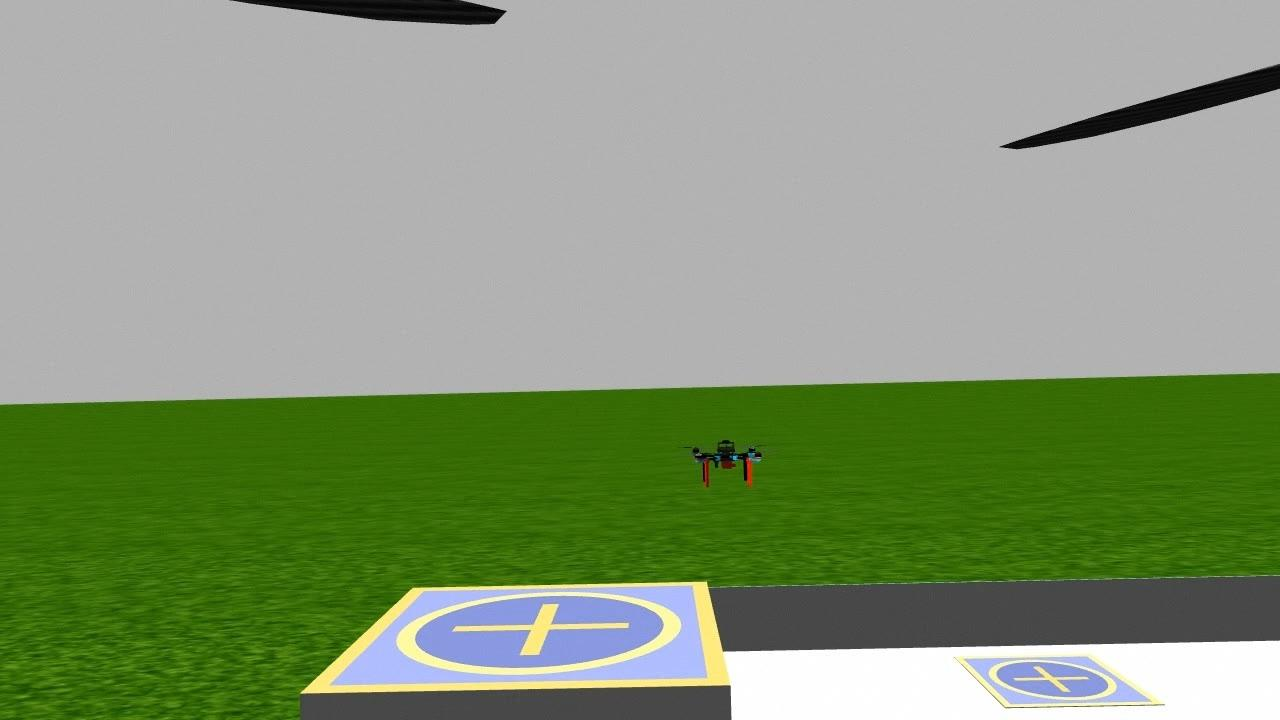UAV: (680, 418, 776, 499)
